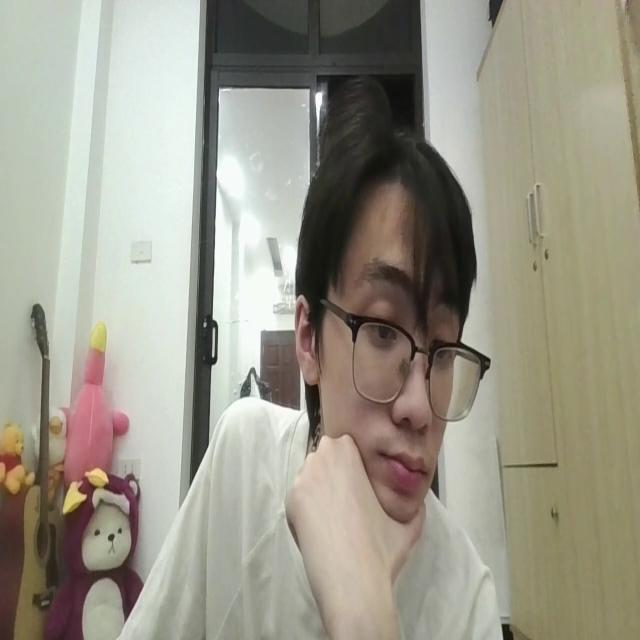student: (120, 108, 502, 640)
